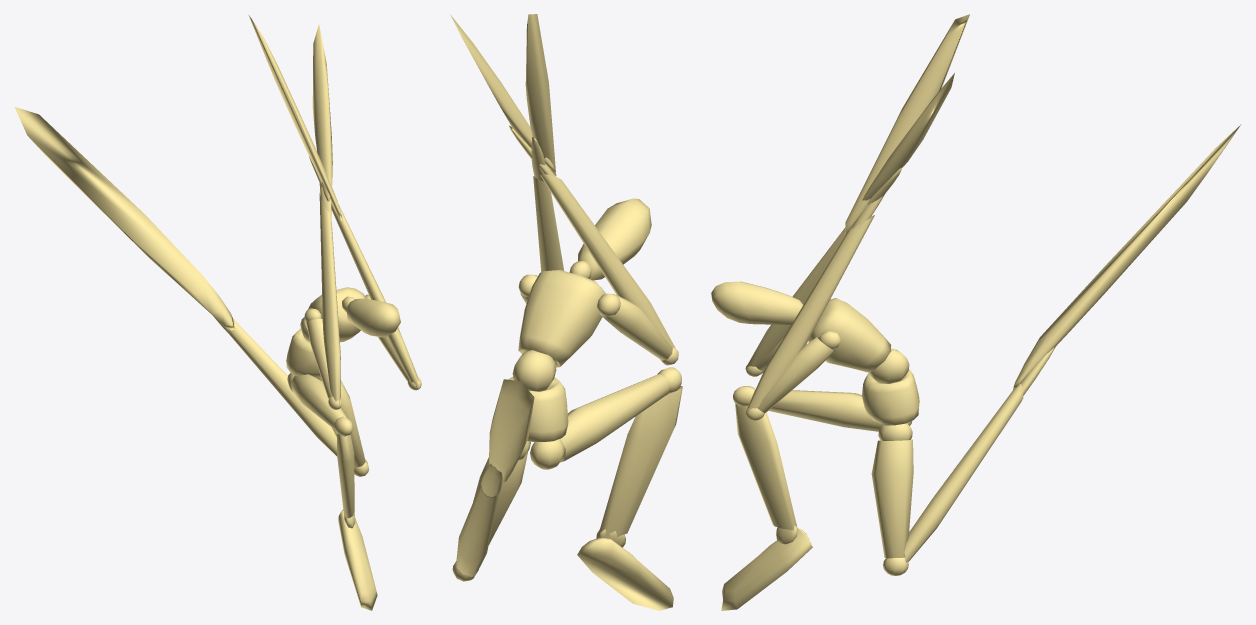
The model's file is old_hero.glb.
3 renders of one model, left to right at view 1: azimuth 30°, elevation 25°; view 2: azimuth 150°, elevation 25°; view 3: azimuth 270°, elevation 25°, orthographic. The views are drawn at different scales.
Parts seen in each view (by area): view 1: Sphere.014, Cylinder.016, Cylinder.018, Sphere.009, Sphere, Sphere.016, Cylinder.019, Cylinder.012, Sphere.008, Cylinder.013, Cylinder.014, Cylinder.011 (+2 smaller); view 2: Cylinder.014, Cylinder.011, Cylinder.013, Cylinder.012, Sphere, Sphere.014, Cylinder.016, Sphere.016, Sphere.008, Cylinder.018, Sphere.009, Cylinder.015 (+2 smaller); view 3: Sphere.014, Cylinder.017, Cylinder.019, Sphere.016, Cylinder.013, Cylinder.011, Cylinder.014, Cylinder.018, Cylinder.012, Sphere, Sphere.008, Sphere.009 (+2 smaller).
Boxes of the visible parts, bbox=[...] form: Sphere.014: bbox=[14, 107, 234, 335]; Cylinder.016: bbox=[319, 191, 340, 404]; Cylinder.018: bbox=[228, 319, 337, 456]; Sphere.009: bbox=[312, 24, 332, 225]; Sphere: bbox=[338, 509, 377, 610]; Sphere.016: bbox=[248, 15, 342, 220]; Cylinder.019: bbox=[331, 204, 420, 388]; Cylinder.012: bbox=[290, 374, 353, 436]; Sphere.008: bbox=[347, 298, 400, 337]; Cylinder.013: bbox=[286, 317, 340, 391]; Cylinder.014: bbox=[304, 287, 370, 342]; Cylinder.011: bbox=[336, 433, 354, 518]; Cylinder.014: bbox=[518, 261, 620, 367]; Cylinder.011: bbox=[598, 386, 682, 537]; Cylinder.013: bbox=[508, 350, 568, 469]; Cylinder.012: bbox=[560, 367, 681, 462]; Sphere: bbox=[577, 529, 673, 610]; Sphere.014: bbox=[480, 379, 534, 496]; Cylinder.016: bbox=[540, 174, 675, 348]; Sphere.016: bbox=[525, 14, 556, 181]; Sphere.008: bbox=[578, 198, 651, 280]; Cylinder.018: bbox=[456, 484, 499, 576]; Sphere.009: bbox=[450, 14, 555, 176]; Cylinder.015: bbox=[600, 295, 678, 365]; Sphere.014: bbox=[1013, 124, 1241, 396]; Cylinder.017: bbox=[871, 439, 913, 575]; Cylinder.019: bbox=[744, 215, 874, 414]; Sphere.016: bbox=[845, 14, 969, 233]; Cylinder.013: bbox=[862, 348, 919, 440]; Cylinder.011: bbox=[735, 403, 797, 530]; Cylinder.014: bbox=[808, 298, 891, 372]; Cylinder.018: bbox=[904, 384, 1023, 562]; Cylinder.012: bbox=[733, 386, 882, 431]; Sphere: bbox=[721, 524, 812, 610]; Sphere.008: bbox=[711, 281, 803, 324]; Sphere.009: bbox=[844, 73, 954, 231].
Size of the model in its own units: 2.08 by 5.16 by 4.21.
